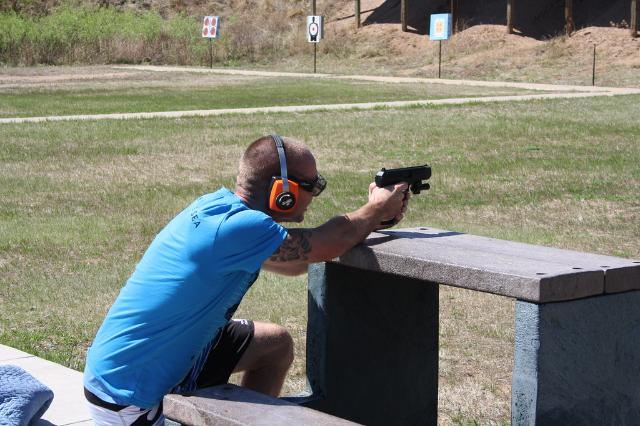handgun: (375, 160, 435, 226)
